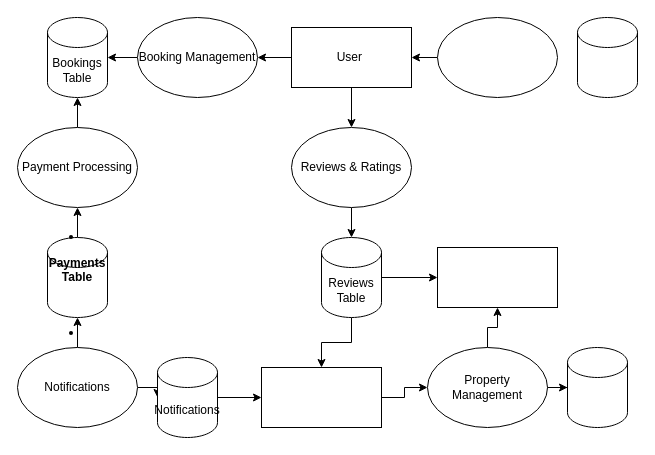
Image size: 655x455. Some labels were removed from this diagram. Here are the shapes that lost their labels. From the top down, the box of each, then its label:
(436, 16, 558, 98): User Authentication
(576, 16, 638, 98): Users Table
(436, 246, 558, 308): Payment Gateway
(260, 366, 382, 428): Admin
(566, 346, 628, 428): Properties Table
